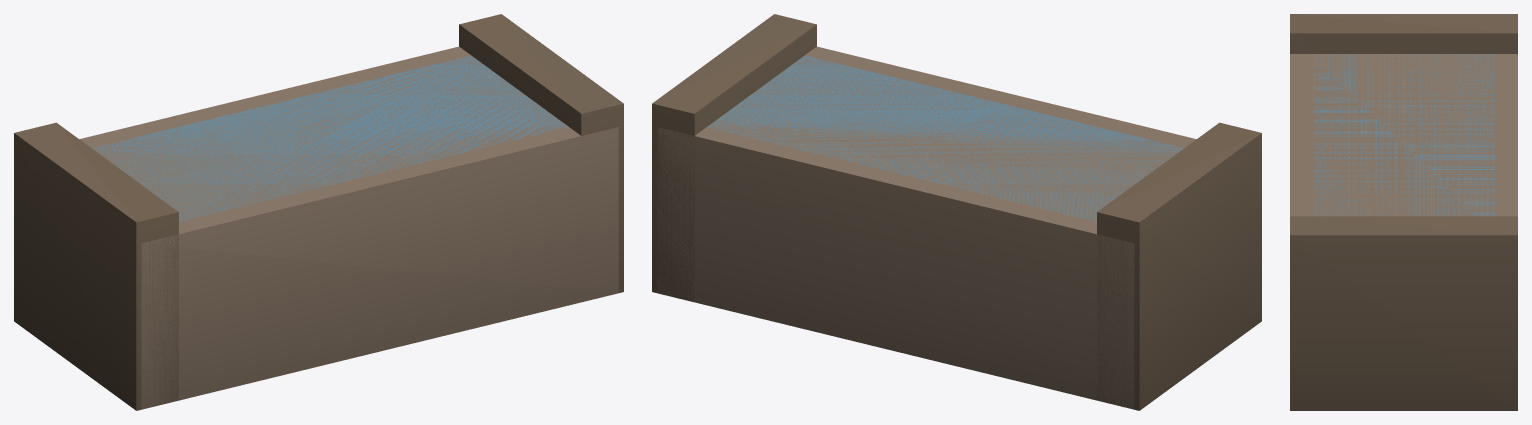
The model's file is trough.glb.
3 views of the same model, side by side, from view 1: azimuth 30°, elevation 25°; view 2: azimuth 150°, elevation 25°; view 3: azimuth 270°, elevation 25° (orthographic). The views are drawn at different scales.
Visible parts, largest first — view 1: trough; view 2: trough; view 3: trough.
Part boxes in pixels (box(x1,y1,x2,y2)): trough: box(14, 14, 623, 410); trough: box(652, 14, 1261, 410); trough: box(1290, 14, 1517, 410).
Size of the model in its own units: 0.92 by 0.34 by 0.4.
